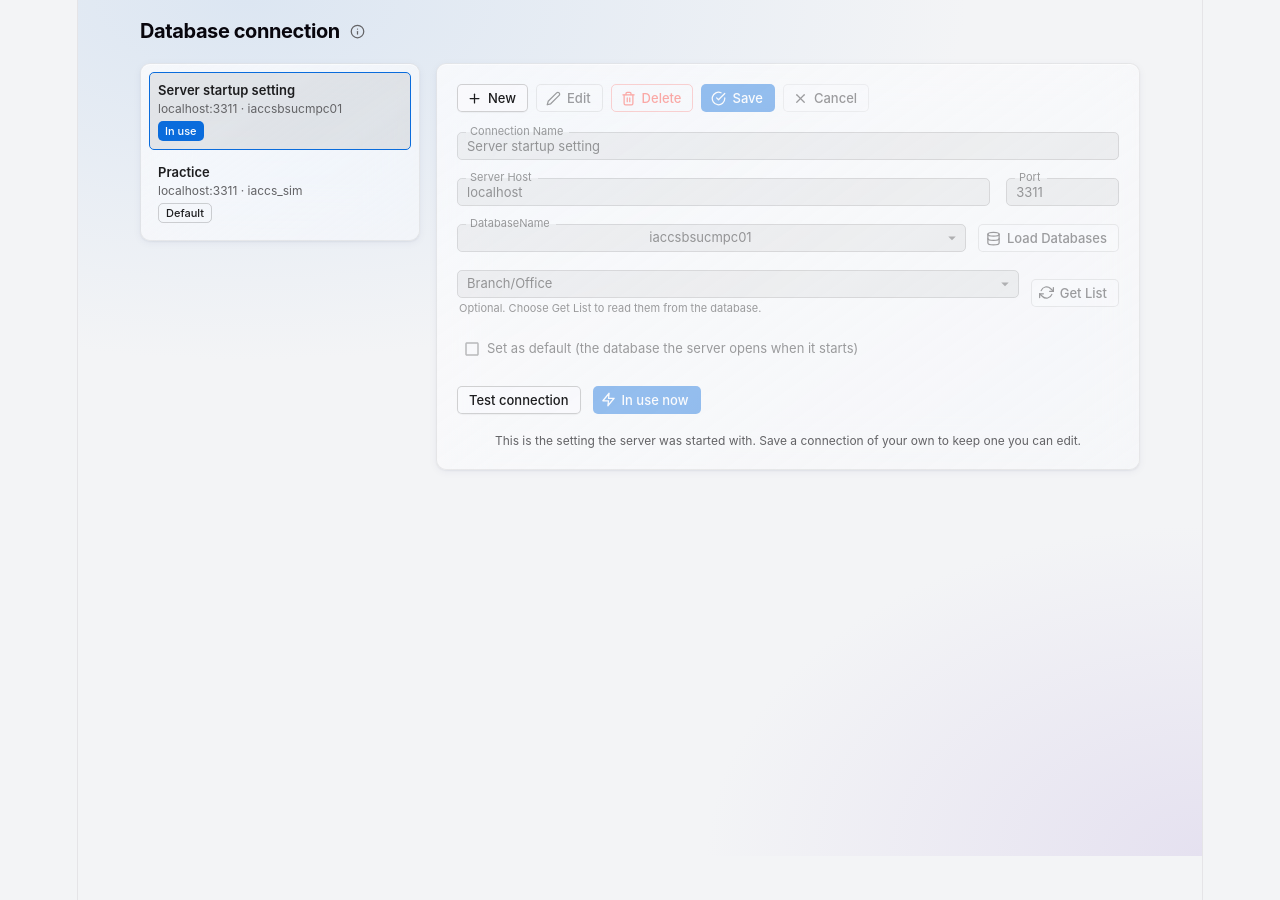
Test case: database connection settings › refuses a port that is not a number, and shows a failed load in words
Check: the navigation bar named "Saved connections" is shown, box [140,63,420,242]
Click the button "New" at (492, 98), box [457,84,528,112]
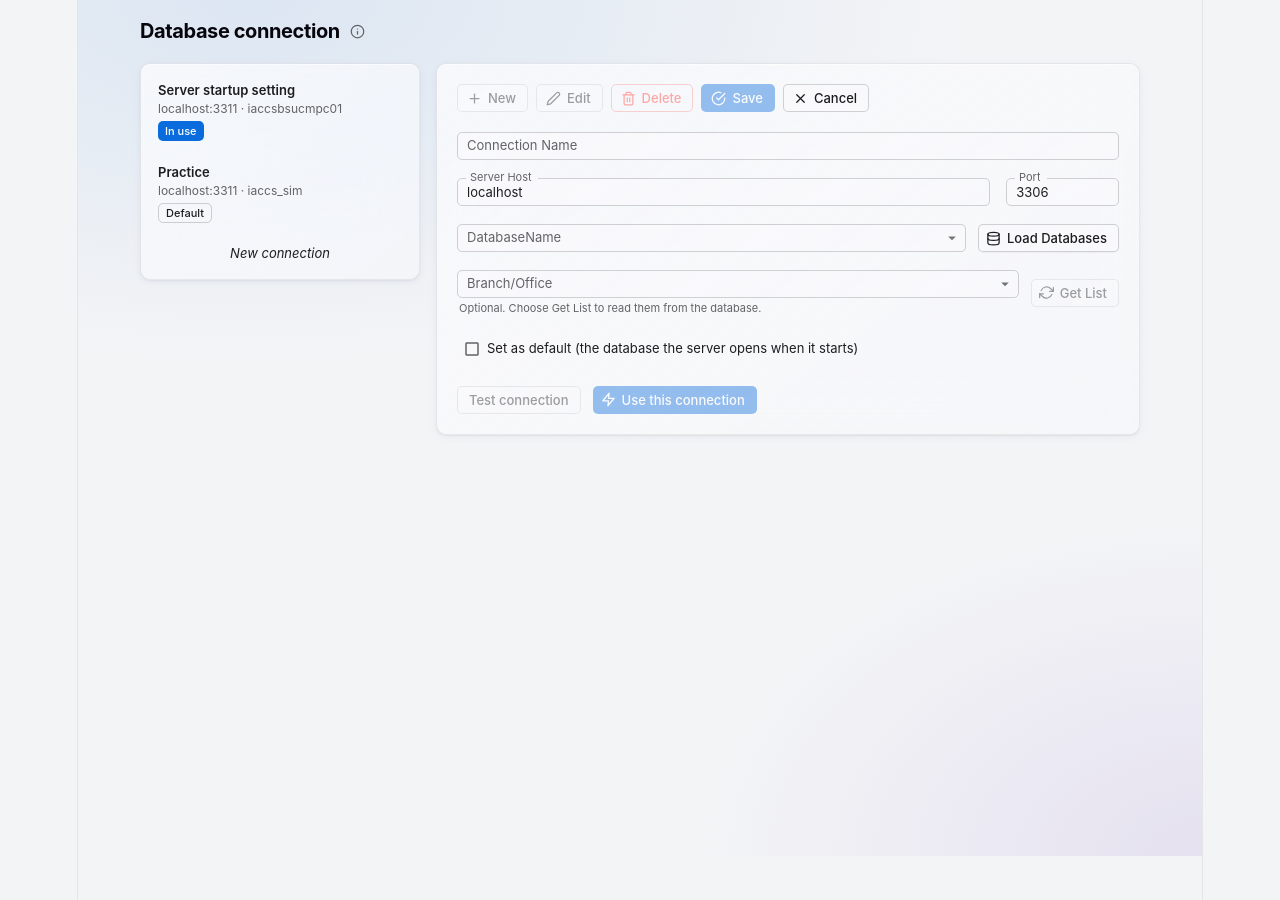
Type "X" into the field labelled "Connection Name" at (788, 146), box [457,132,1119,160]
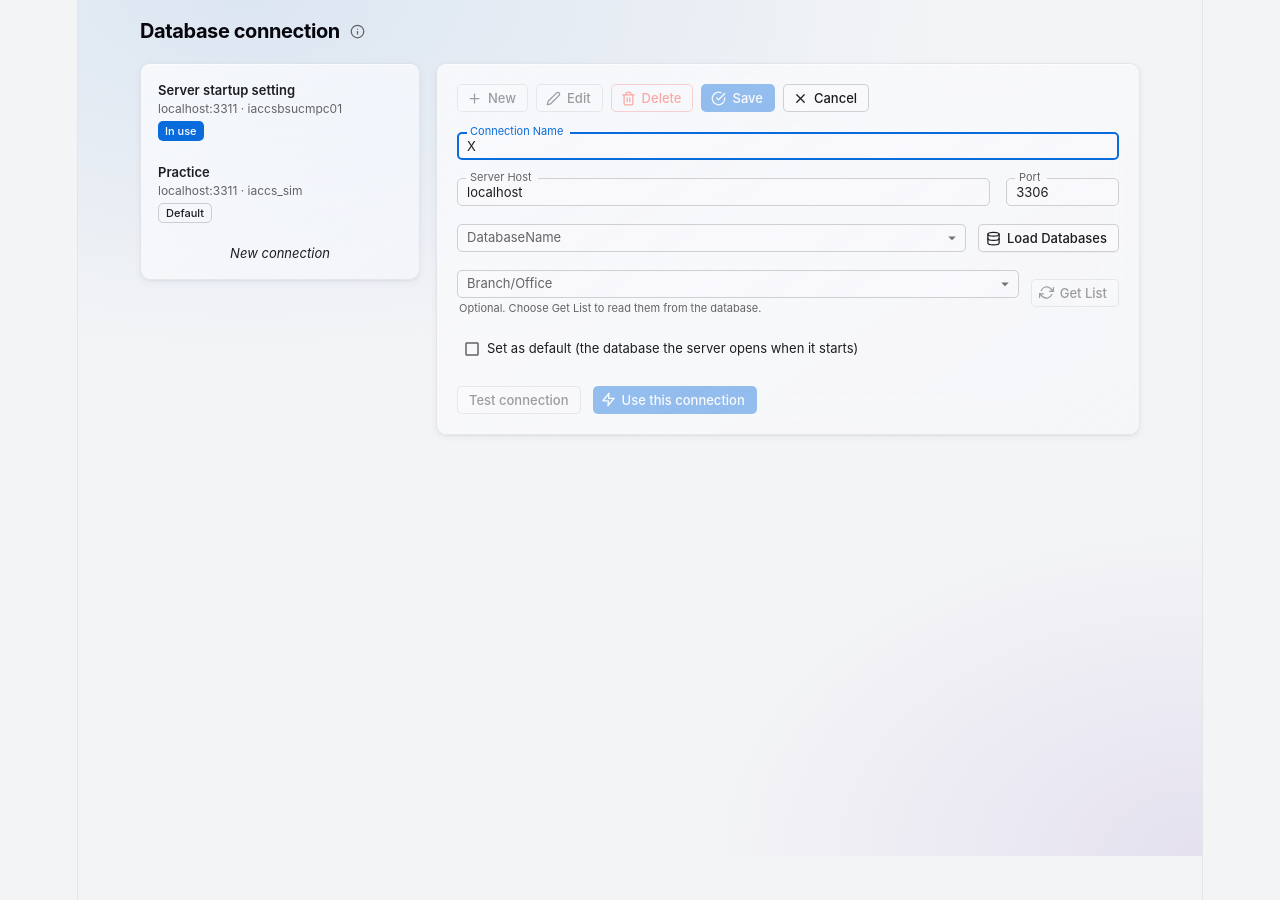
Replace the text in the field labelled "Server Host" with "office-pc" at (724, 192), box [457,178,990,206]
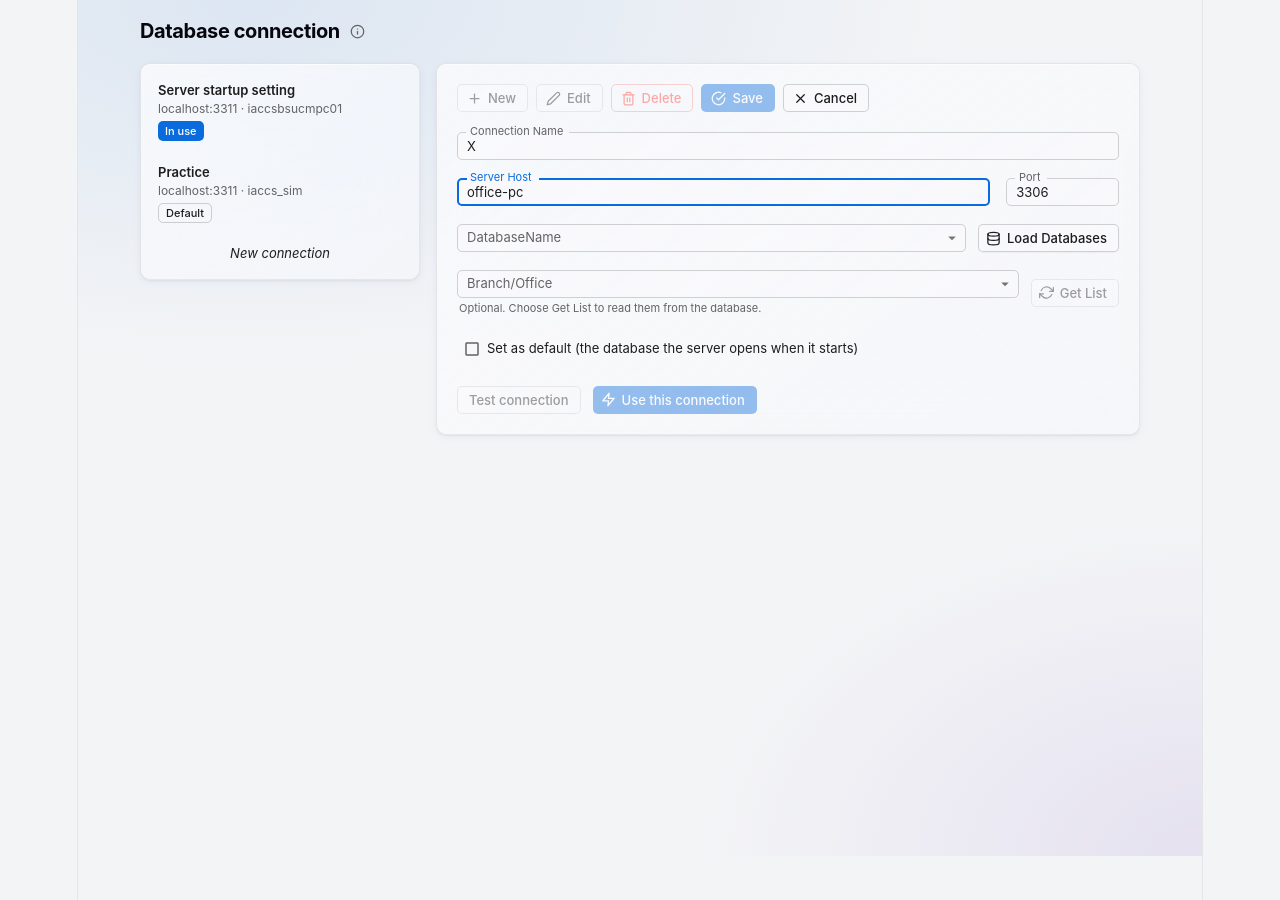
Replace the text in the field labelled "Port" with "99999" at (1063, 192), box [1006,178,1119,206]
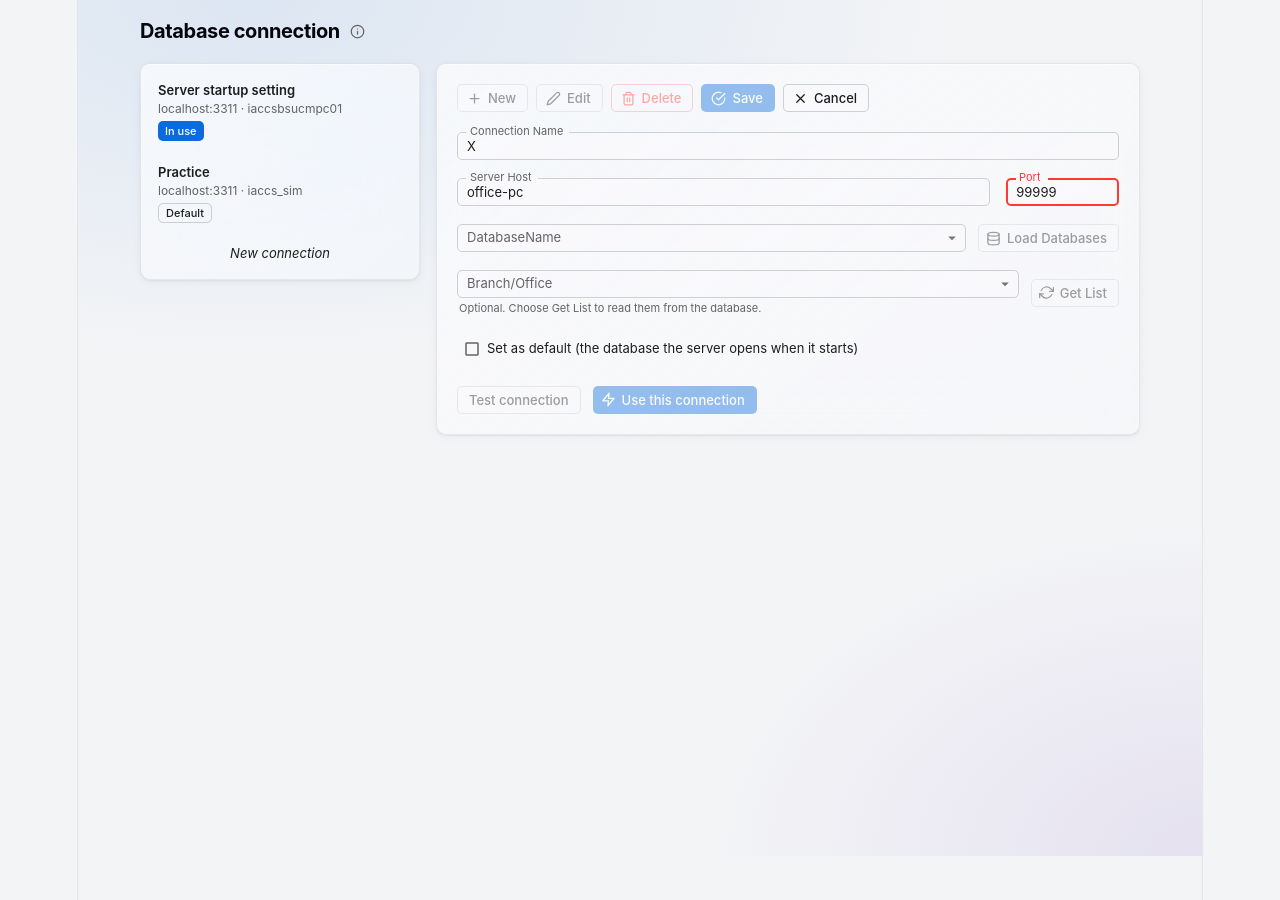
Check: the button "Load Databases" is disabled, box [978,224,1119,252]
Replace the text in the field labelled "Port" with "3311" at (1063, 192), box [1006,178,1119,206]
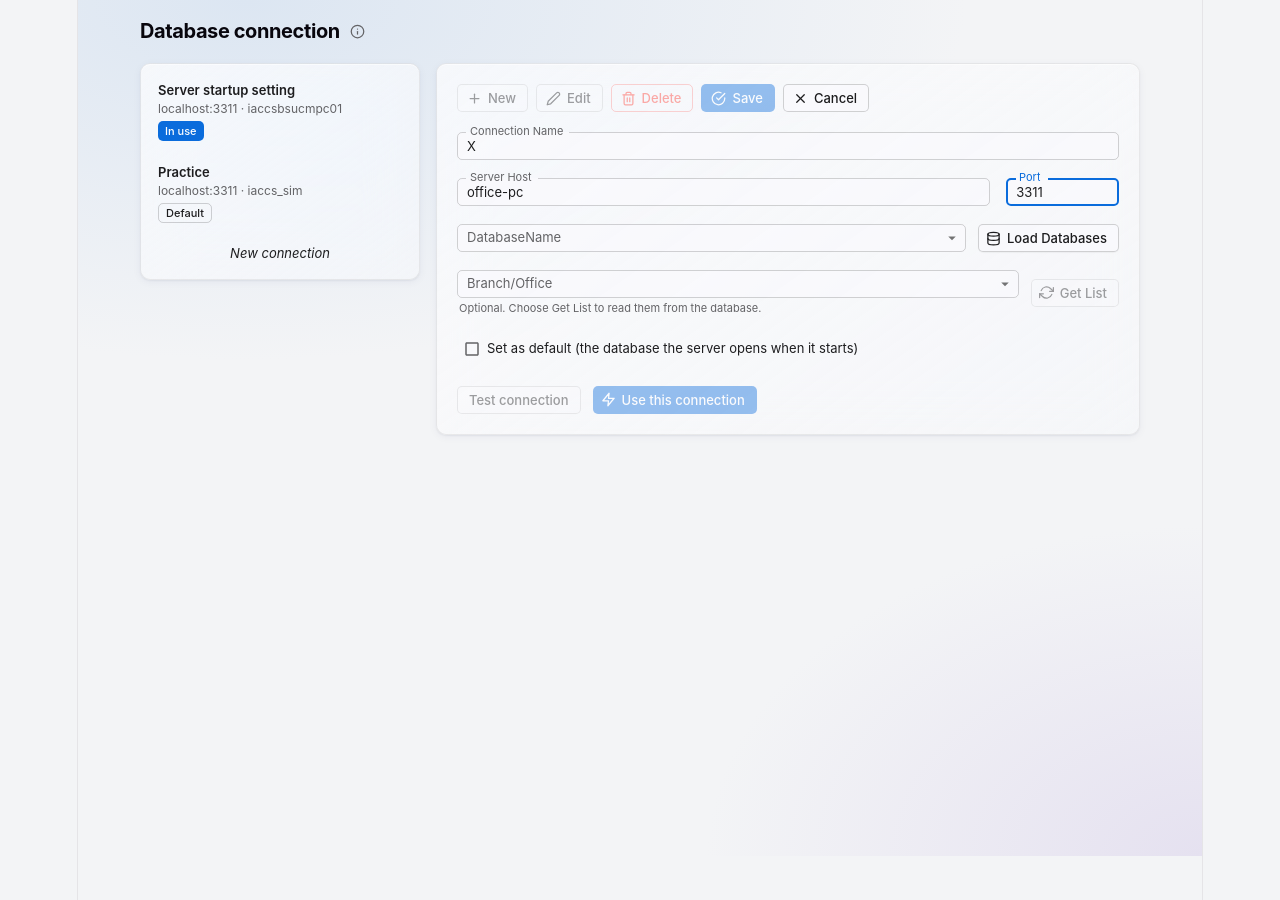
Click the button "Load Databases" at (1048, 238), box [978,224,1119,252]
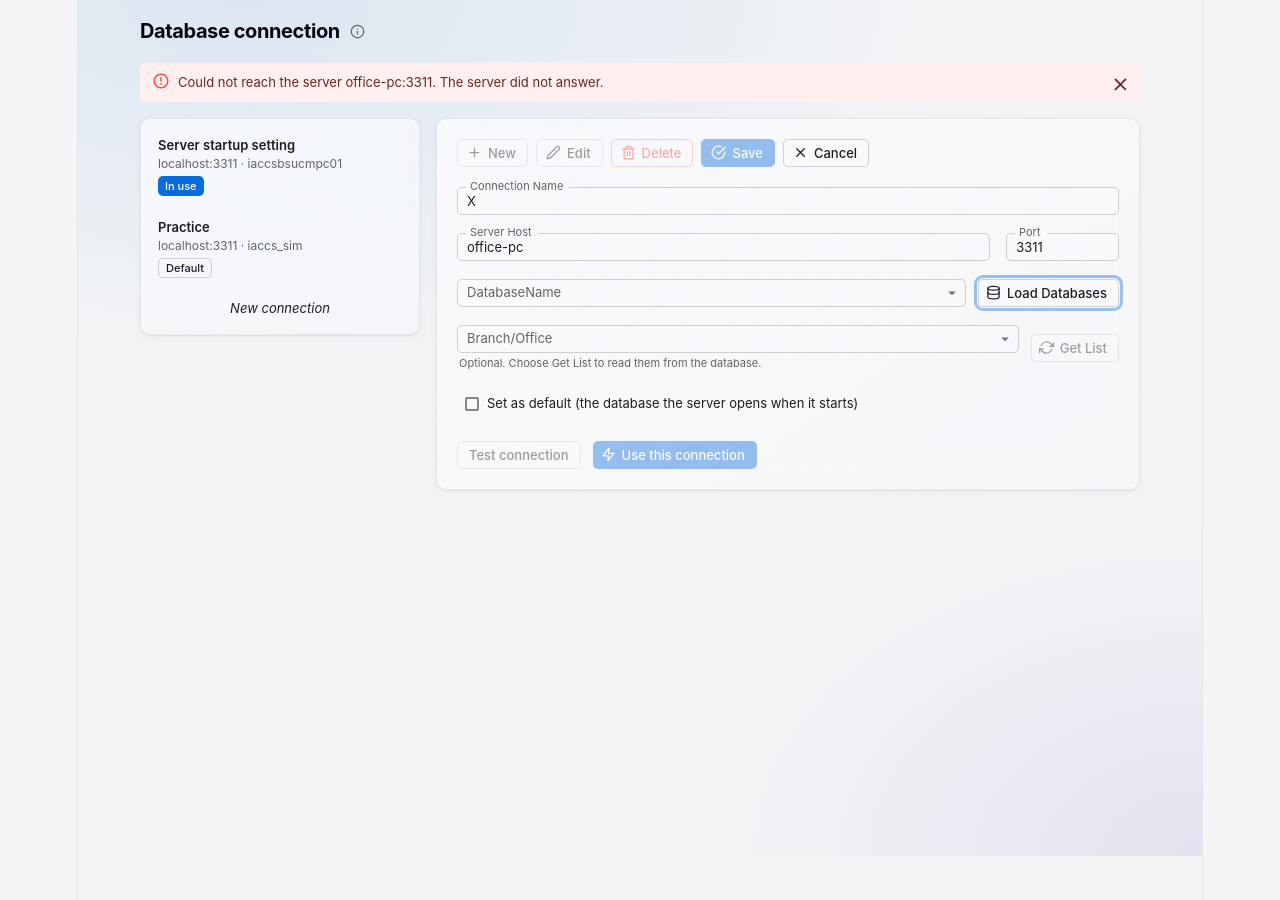
Check: the message shows "The server did not answer", box [178,74,604,90]
